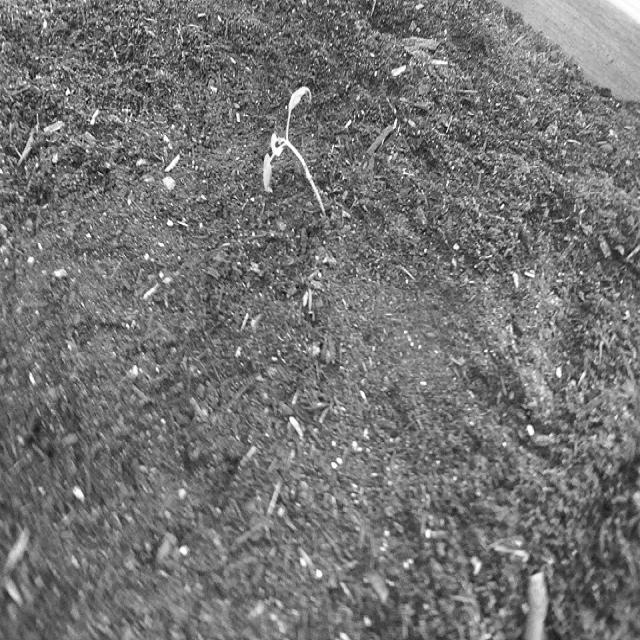Healthy: (260, 82, 335, 230)
